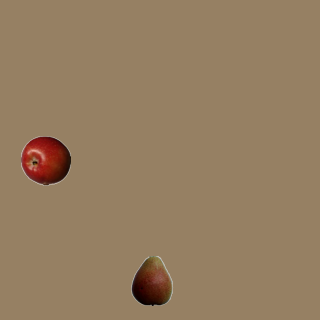Apple Braeburn: (20, 135, 70, 185)
Pear Forelle: (126, 255, 176, 305)
